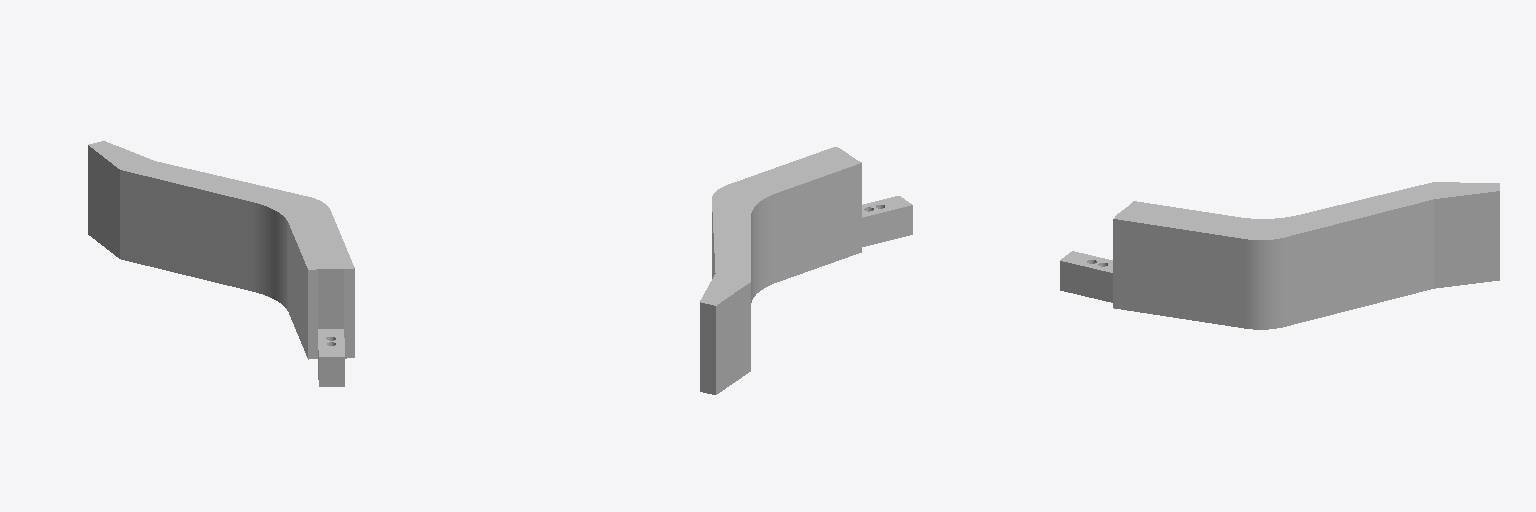
File: rfinger.obj
3 views of the same model, side by side, from view 1: azimuth 30°, elevation 25°; view 2: azimuth 150°, elevation 25°; view 3: azimuth 270°, elevation 25° (orthographic).
Parts seen in each view (by area): view 1: rfinger; view 2: rfinger; view 3: rfinger.
Boxes of the visible parts, x1,y1,x2,y2 form: rfinger: [88, 141, 354, 386]; rfinger: [700, 147, 912, 394]; rfinger: [1060, 182, 1499, 329].
Bounding box in the file's own units: 0.0418 × 0.03 × 0.1339.